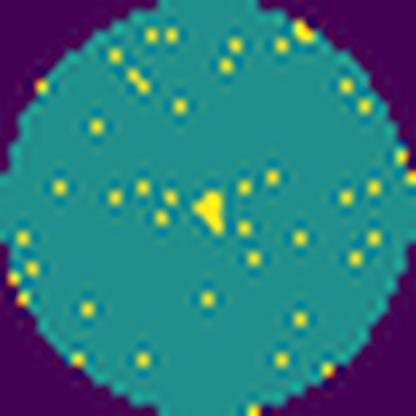Center: (189, 185, 230, 241)
